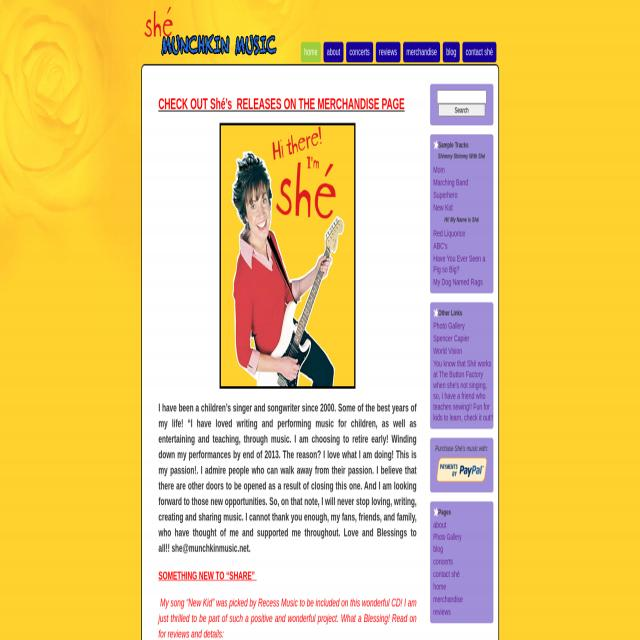button: (220, 123, 356, 389), (436, 458, 486, 482), (403, 42, 441, 62), (462, 42, 496, 62), (438, 104, 485, 117), (346, 42, 373, 62), (376, 41, 400, 62), (301, 42, 321, 62), (324, 42, 344, 62), (443, 42, 459, 62)
field: (437, 90, 486, 104)
